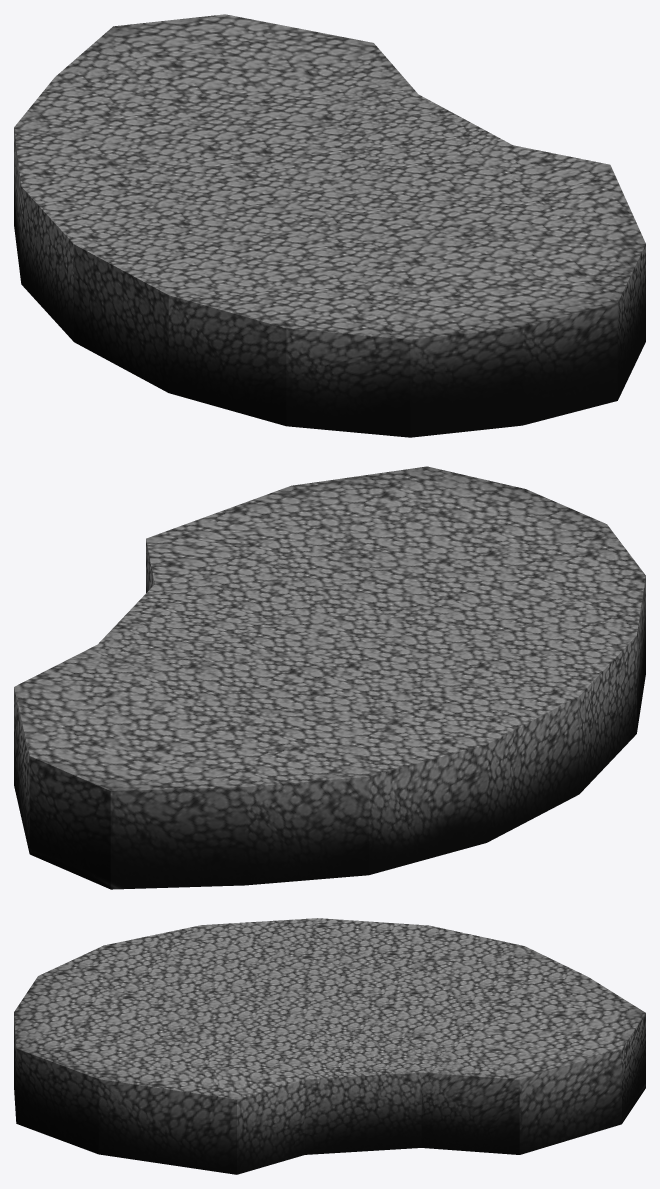
The model's file is floor_2.glb.
The picture shows the model from 3 angles, top to bottom: view 1: azimuth 30°, elevation 25°; view 2: azimuth 150°, elevation 25°; view 3: azimuth 270°, elevation 25°; orthographic projection. The views are drawn at different scales.
Visible parts, largest first — view 1: floor_2-col; view 2: floor_2-col; view 3: floor_2-col.
Boxes of the visible parts, x1,y1,x2,y2 form: floor_2-col: (14, 14, 645, 437); floor_2-col: (14, 466, 645, 889); floor_2-col: (14, 918, 645, 1174).
Size of the model in its own units: 12.53 by 2.42 by 18.44.
1 material, 1 textured.
